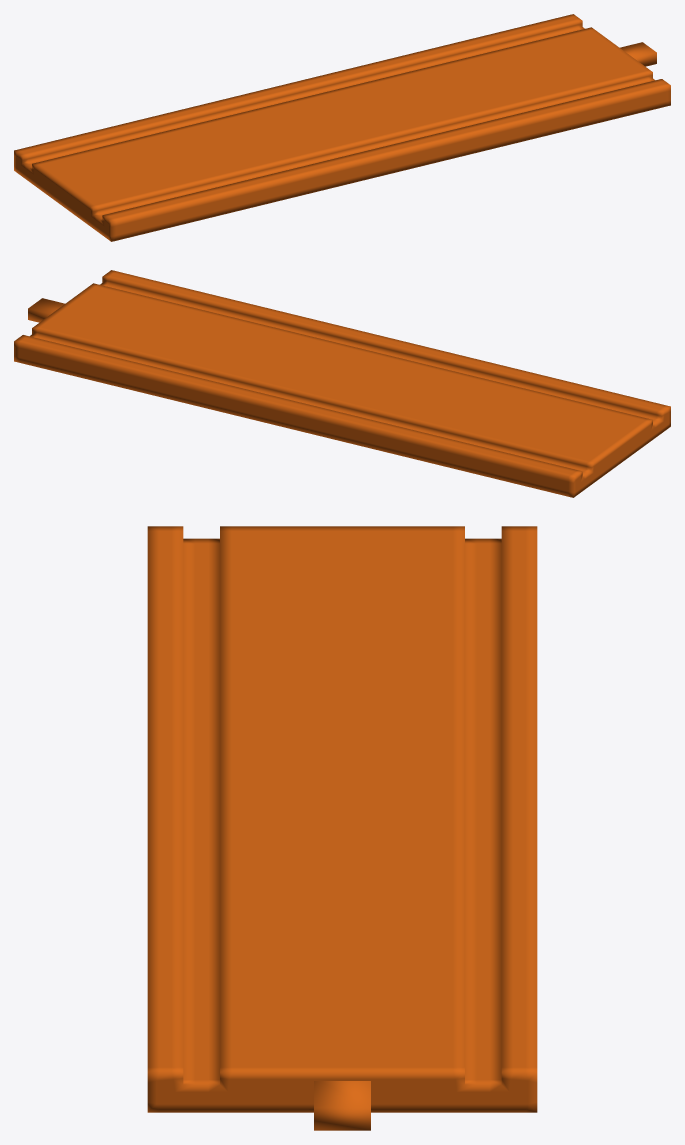
The model's file is train_rail_straight_01.FBX.
The picture shows the model from 3 angles, top to bottom: view 1: azimuth 30°, elevation 25°; view 2: azimuth 150°, elevation 25°; view 3: azimuth 270°, elevation 25°; orthographic projection. The views are drawn at different scales.
Visible parts, largest first — view 1: train_rail_straight_01; view 2: train_rail_straight_01; view 3: train_rail_straight_01.
Part boxes in pixels (x1,y1,x2,y2): train_rail_straight_01: (14,14,670,241); train_rail_straight_01: (14,270,670,497); train_rail_straight_01: (147,526,537,1130).
Bounding box in the file's own units: 1618 × 52.97 × 465.
